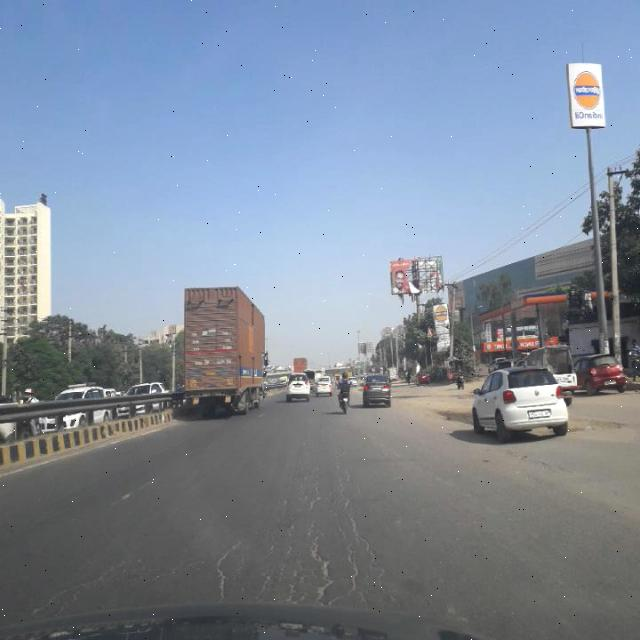D20: (206, 423, 394, 597), (34, 525, 200, 616)
D44: (102, 469, 163, 511)
